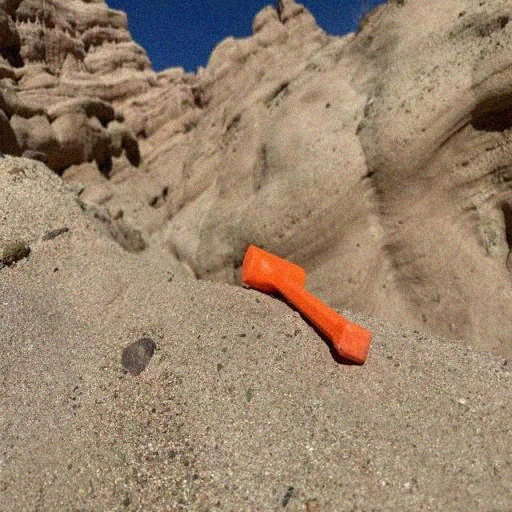mallet: (241, 244, 371, 364)
